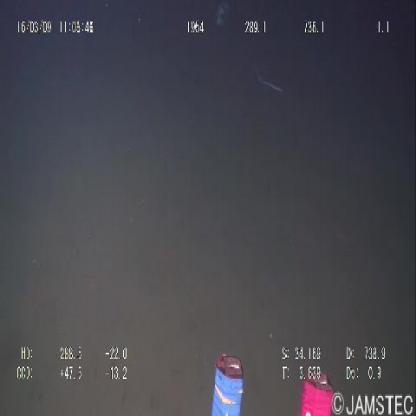Bio: (250, 63, 288, 99)
Rov: (206, 348, 336, 414)
